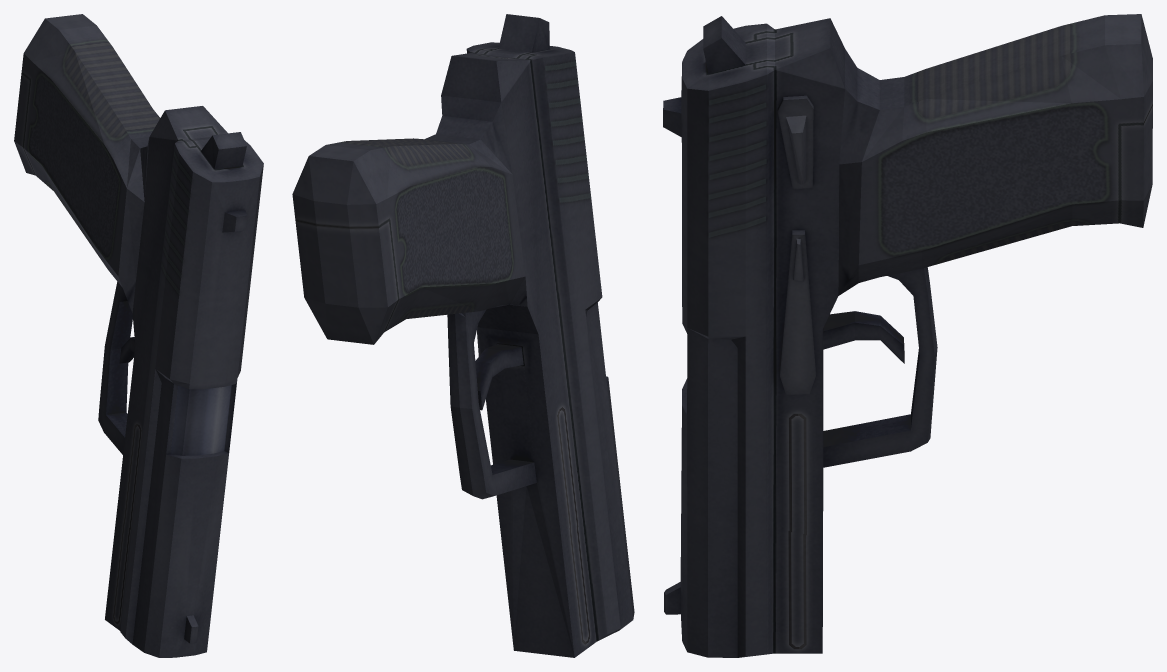
The model's file is pistol.obj.
3 views of the same model, side by side, from view 1: azimuth 30°, elevation 25°; view 2: azimuth 150°, elevation 25°; view 3: azimuth 270°, elevation 25° (orthographic). The views are drawn at different scales.
Parts seen in each view (by area): view 1: Default; view 2: Default; view 3: Default.
Part boxes in pixels (bbox=[...]): Default: bbox=[14, 14, 263, 657]; Default: bbox=[292, 14, 634, 657]; Default: bbox=[663, 14, 1152, 657].
Bounding box in the file's own units: 0.3472 × 1.34 × 0.9133.
